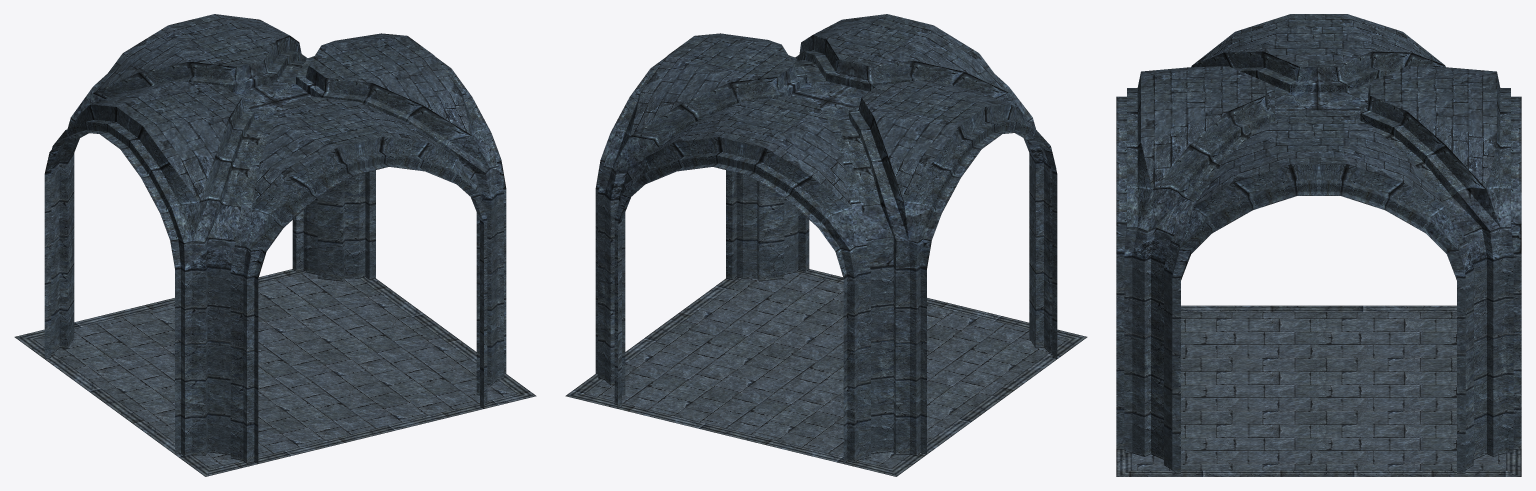
Rendered from wall_4side.FBX.
The picture shows the model from 3 angles, left to right: view 1: azimuth 30°, elevation 25°; view 2: azimuth 150°, elevation 25°; view 3: azimuth 270°, elevation 25°; orthographic projection. The views are drawn at different scales.
Visible parts, largest first — view 1: 4side_tunnel; view 2: 4side_tunnel; view 3: 4side_tunnel.
Boxes of the visible parts, x1,y1,x2,y2 form: 4side_tunnel: (14, 14, 536, 476); 4side_tunnel: (565, 14, 1087, 476); 4side_tunnel: (1116, 14, 1521, 476).
Bounding box in the file's own units: 91.85 × 75.6 × 91.85.
